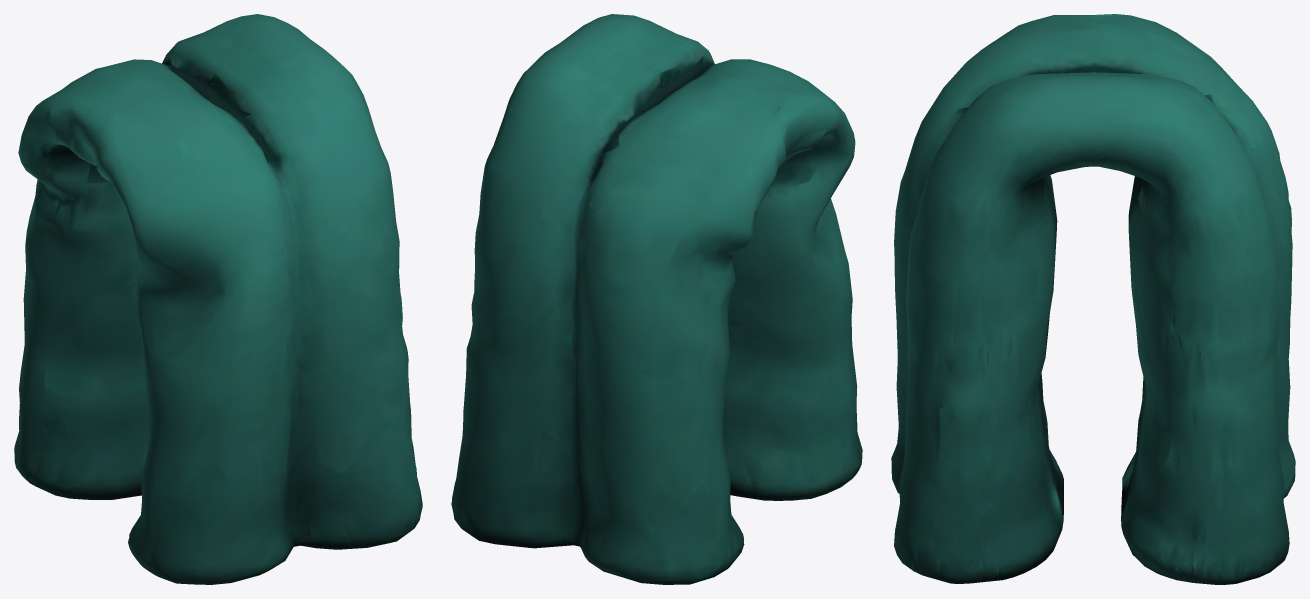
Rendered from 01_2_bud_rrs_stool-opt-v2.glb.
3 renders of one model, left to right at view 1: azimuth 30°, elevation 25°; view 2: azimuth 150°, elevation 25°; view 3: azimuth 270°, elevation 25°, orthographic. The views are drawn at different scales.
Parts seen in each view (by area): view 1: tripo_material_2e37826a-9f09-40e4-9aca-c6835949edb5.003; view 2: tripo_material_2e37826a-9f09-40e4-9aca-c6835949edb5.003; view 3: tripo_material_2e37826a-9f09-40e4-9aca-c6835949edb5.003.
Boxes of the visible parts, <box> form: tripo_material_2e37826a-9f09-40e4-9aca-c6835949edb5.003: <box>14,14,422,584</box>; tripo_material_2e37826a-9f09-40e4-9aca-c6835949edb5.003: <box>451,14,862,584</box>; tripo_material_2e37826a-9f09-40e4-9aca-c6835949edb5.003: <box>891,14,1295,584</box>.
Bounding box in the file's own units: 0.3005 × 0.4502 × 0.3495.
1 material, 1 textured.
